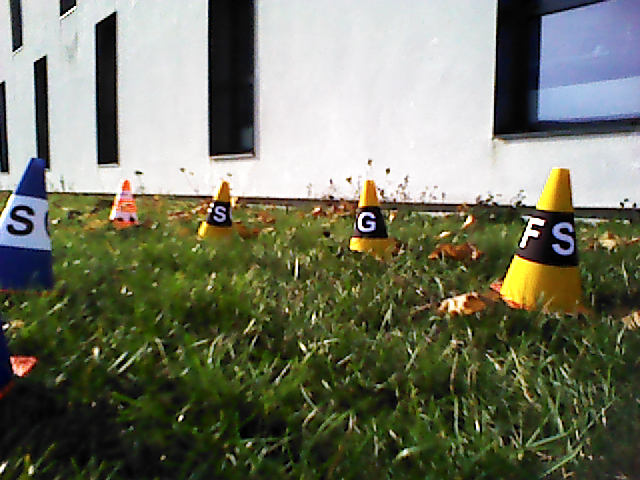bluecone: (1, 157, 56, 288)
orangeconesmall: (108, 181, 138, 227)
yellowcone: (498, 167, 585, 313), (348, 180, 392, 255), (197, 182, 234, 241)
